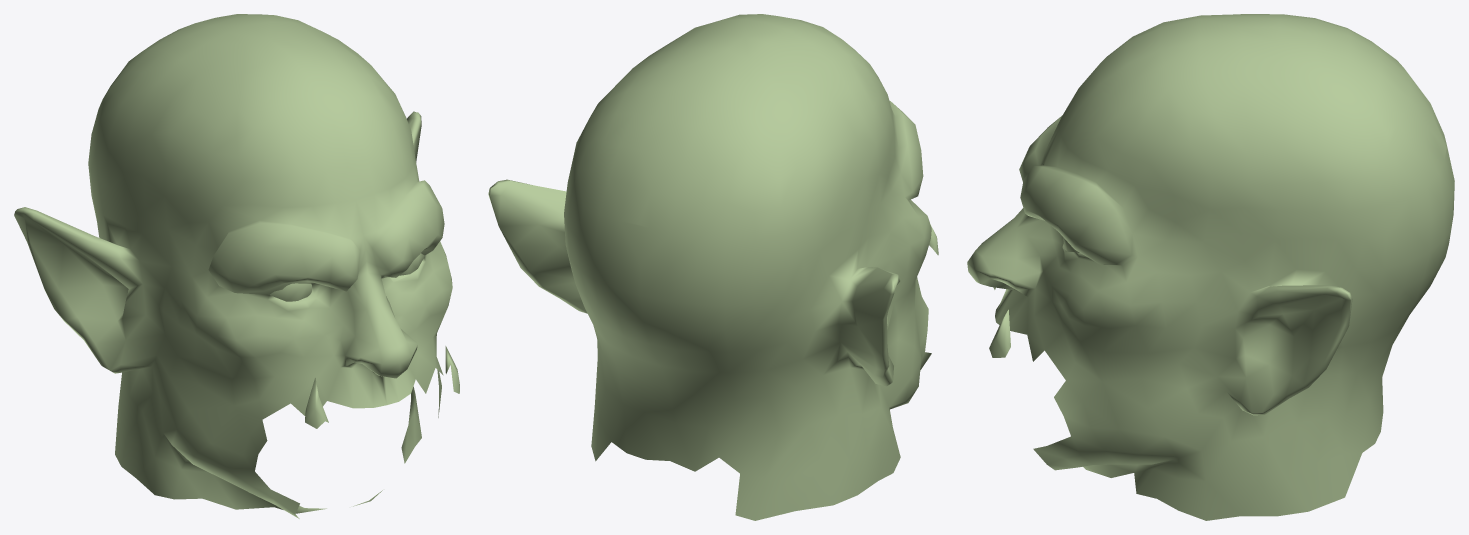
File: head_orc.glb
The picture shows the model from 3 angles, left to right: view 1: azimuth 30°, elevation 25°; view 2: azimuth 150°, elevation 25°; view 3: azimuth 270°, elevation 25°; orthographic projection. The views are drawn at different scales.
Parts seen in each view (by area): view 1: racial_head; view 2: racial_head; view 3: racial_head.
Part boxes in pixels (<box>): racial_head: <box>14,14,459,518</box>; racial_head: <box>488,14,938,520</box>; racial_head: <box>967,14,1454,520</box>.
Bounding box in the file's own units: 0.3212 × 0.3165 × 0.3266.
